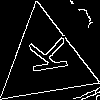K: (20, 36, 68, 77)
